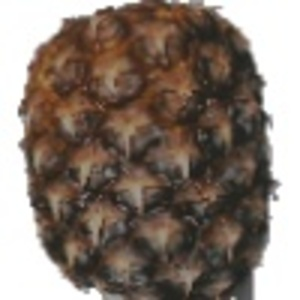abacaxi: (17, 2, 282, 292)
